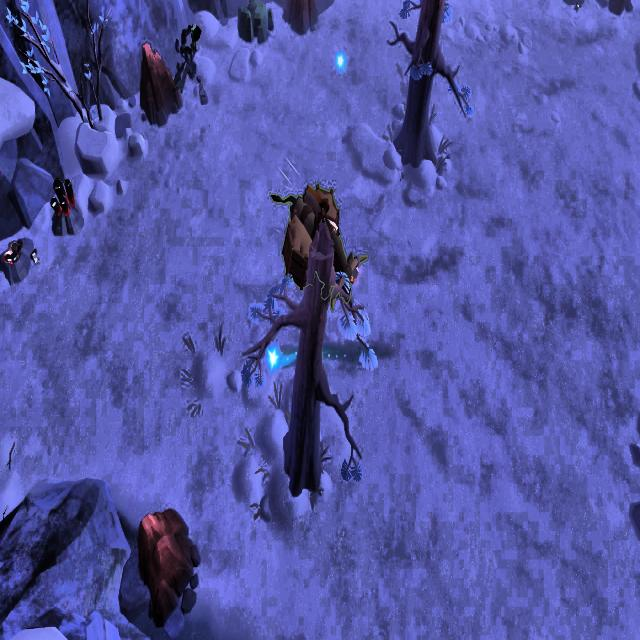ore_t5: (51, 175, 75, 218)
rock_t3: (233, 0, 273, 51)
rock_t5: (134, 501, 201, 624), (136, 43, 186, 126), (282, 0, 321, 40)
